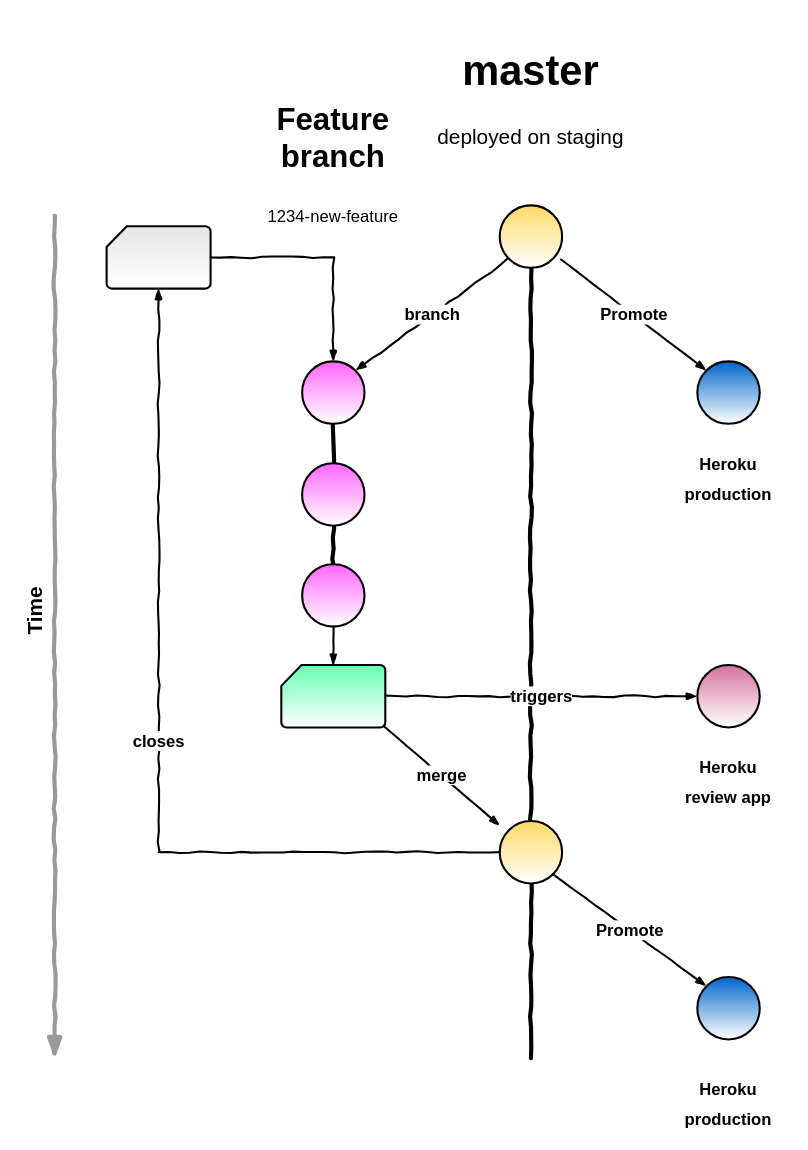
Image size: 808x1150. Some labels were removed from this diagram. The shapes that lost their labels are listed below. From the top down, each one's box as (x1, y1, x2, y2) in pixels, then its label:
(105, 225, 211, 289): GitHub Issue #1234
(280, 664, 386, 728): GitHub Merge Request
